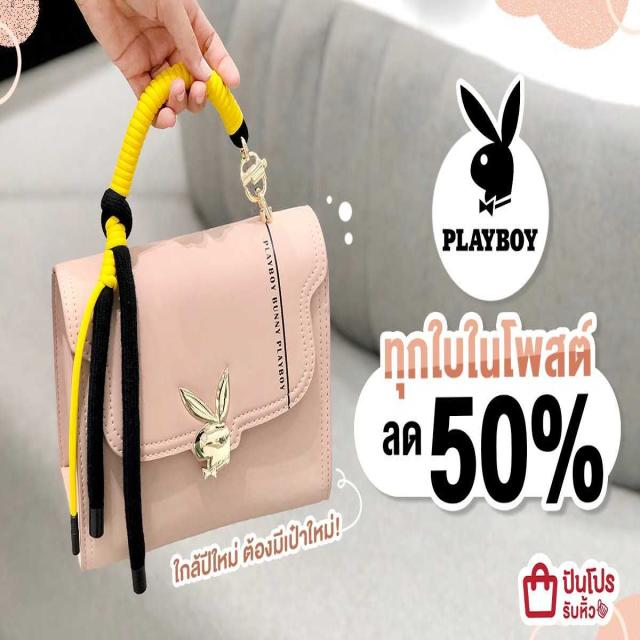Handbag: (46, 157, 337, 581)
